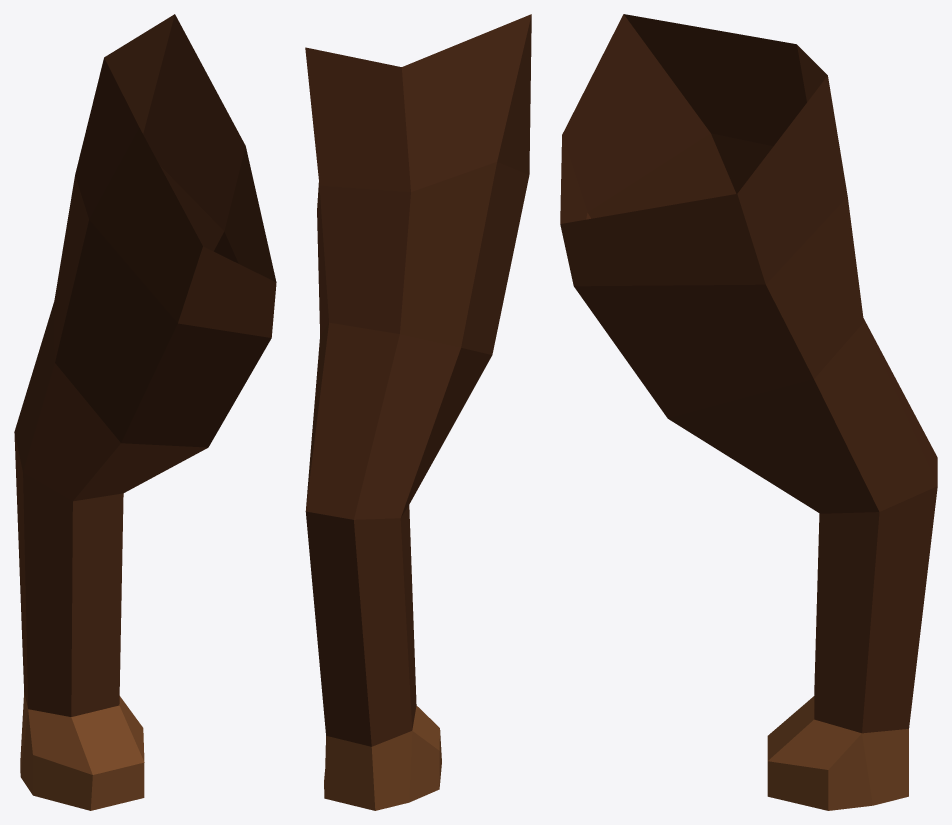
The model's file is zampa_dx_die_dog.obj.
3 views of the same model, side by side, from view 1: azimuth 30°, elevation 25°; view 2: azimuth 150°, elevation 25°; view 3: azimuth 270°, elevation 25° (orthographic). The views are drawn at different scales.
Parts seen in each view (by area): view 1: zampa_dx_die; view 2: zampa_dx_die; view 3: zampa_dx_die.
Part boxes in pixels (bbox=[...]): zampa_dx_die: bbox=[14, 14, 276, 810]; zampa_dx_die: bbox=[305, 14, 531, 810]; zampa_dx_die: bbox=[560, 14, 937, 810].
Size of the model in its own units: 0.0927 by 0.3897 by 0.1775.
